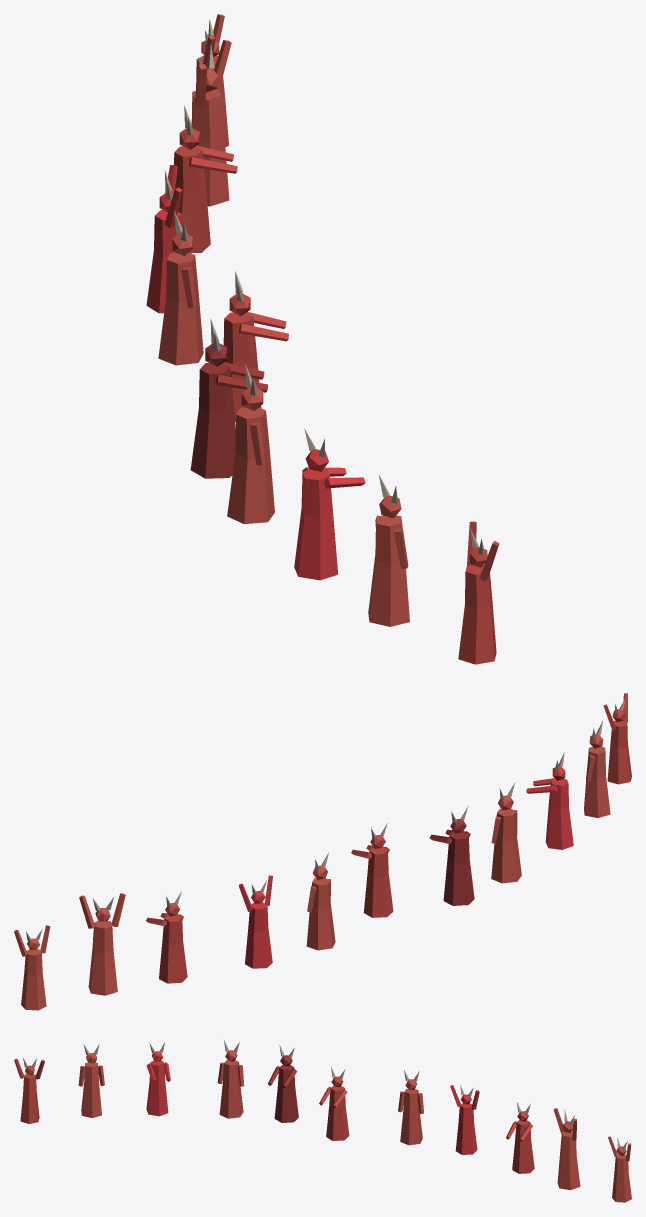
The model's file is Stands_7_0_0_Ice.obj.
3 views of the same model, one above another, from view 1: azimuth 30°, elevation 25°; view 2: azimuth 150°, elevation 25°; view 3: azimuth 270°, elevation 25° (orthographic). The views are drawn at different scales.
Parts seen in each view (by area): view 1: Stands_7_0_0_Ice; view 2: Stands_7_0_0_Ice; view 3: Stands_7_0_0_Ice.
Part boxes in pixels (box(x1,y1,x2,y2)): Stands_7_0_0_Ice: box(146, 14, 499, 664); Stands_7_0_0_Ice: box(14, 693, 631, 1010); Stands_7_0_0_Ice: box(14, 1040, 631, 1202).
Size of the model in its own units: 12.35 by 4.31 by 33.05.
1 material, 1 textured.
